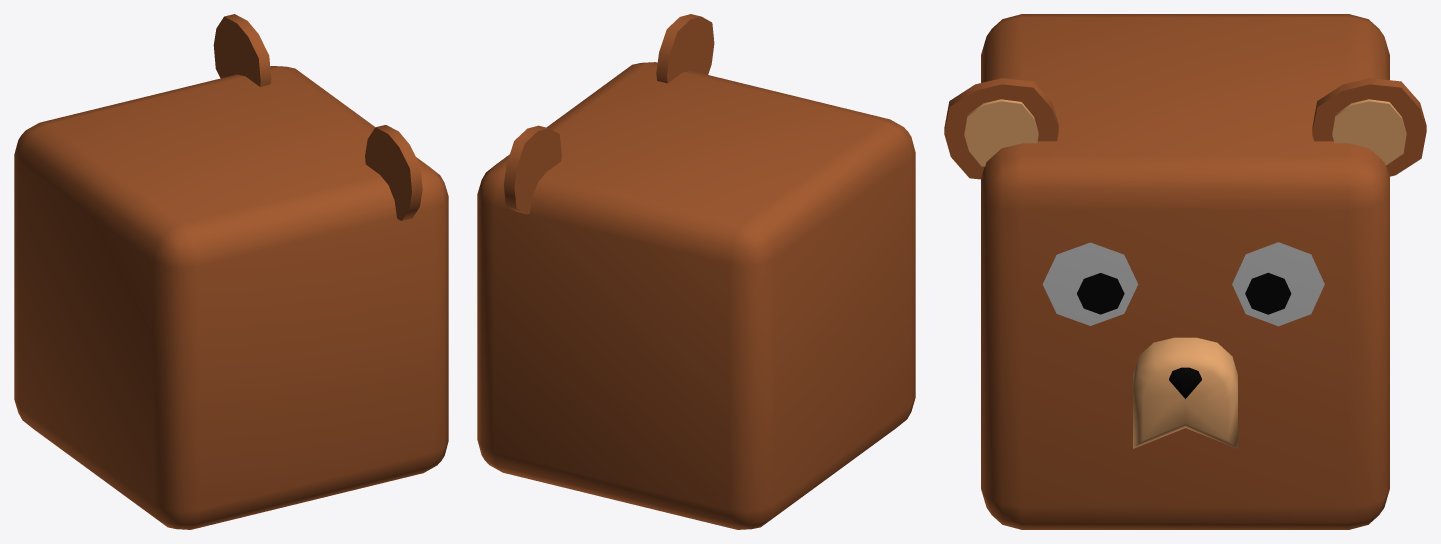
The model's file is BrownBeast.fbx.
3 views of the same model, side by side, from view 1: azimuth 30°, elevation 25°; view 2: azimuth 150°, elevation 25°; view 3: azimuth 270°, elevation 25° (orthographic). The views are drawn at different scales.
Visible parts, largest first — view 1: Cube, Cube.003, Cube.002; view 2: Cube, Cube.002, Cube.003; view 3: Cube, Cylinder.003, Cylinder.002, Cube.003, Cube.002, Cylinder.004, Cube.005, Cube.001, Cylinder.005, Cylinder.001, Cube.004.
Part boxes in pixels (x1=…): Cube: x1=14, y1=66, x2=448, y2=529; Cube.003: x1=365, y1=125, x2=422, y2=220; Cube.002: x1=213, y1=14, x2=271, y2=86; Cube: x1=477, y1=62, x2=915, y2=529; Cube.002: x1=504, y1=125, x2=561, y2=214; Cube.003: x1=656, y1=14, x2=714, y2=83; Cube: x1=981, y1=14, x2=1389, y2=529; Cylinder.003: x1=1133, y1=337, x2=1237, y2=448; Cylinder.002: x1=1042, y1=242, x2=1138, y2=325; Cube.003: x1=944, y1=78, x2=1058, y2=179; Cube.002: x1=1312, y1=78, x2=1426, y2=176; Cylinder.004: x1=1232, y1=242, x2=1324, y2=326; Cube.005: x1=1332, y1=99, x2=1406, y2=165; Cube.001: x1=964, y1=99, x2=1038, y2=166; Cylinder.005: x1=1077, y1=273, x2=1124, y2=314; Cylinder.001: x1=1245, y1=272, x2=1291, y2=314; Cube.004: x1=1169, y1=367, x2=1201, y2=398.
Bounding box in the file's own units: 231 × 231 × 236.
